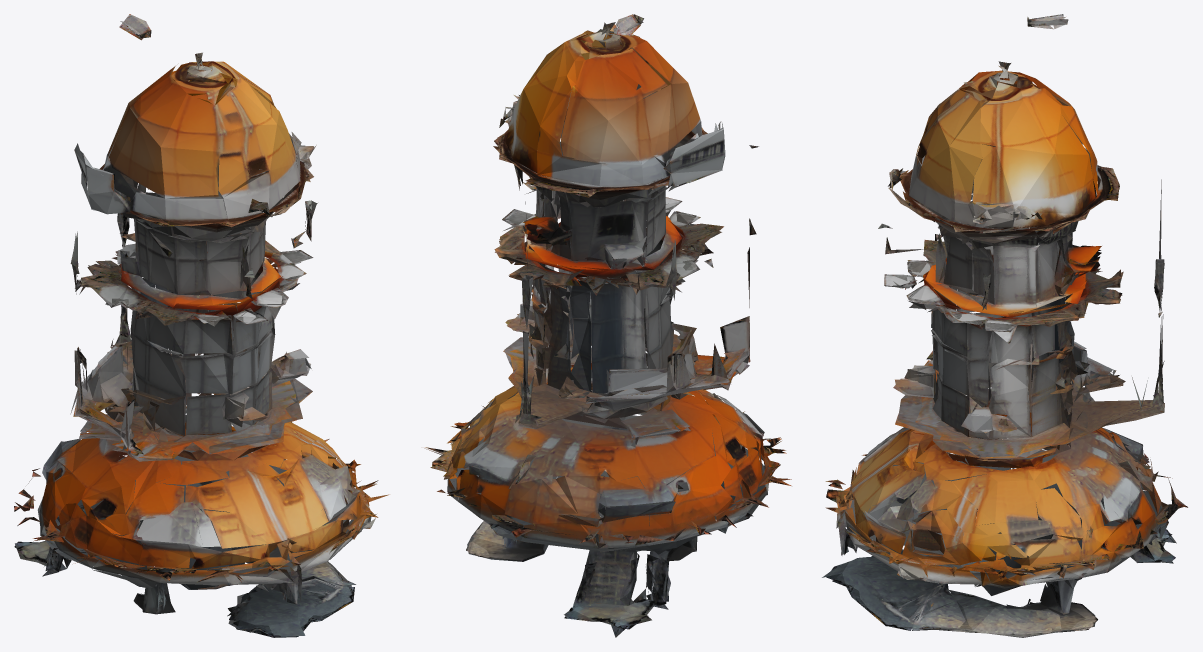
File: research_center_t1.fbx
3 renders of one model, left to right at view 1: azimuth 30°, elevation 25°; view 2: azimuth 150°, elevation 25°; view 3: azimuth 270°, elevation 25°, orthographic.
Parts seen in each view (by area): view 1: research_center_t1; view 2: research_center_t1; view 3: research_center_t1.
Boxes of the visible parts, x1,y1,x2,y2 form: research_center_t1: [14, 14, 389, 637]; research_center_t1: [424, 14, 791, 637]; research_center_t1: [822, 14, 1187, 637].
Size of the model in its own units: 2.58 by 4.25 by 2.56.
Materials: 1 (1 with a texture image).
